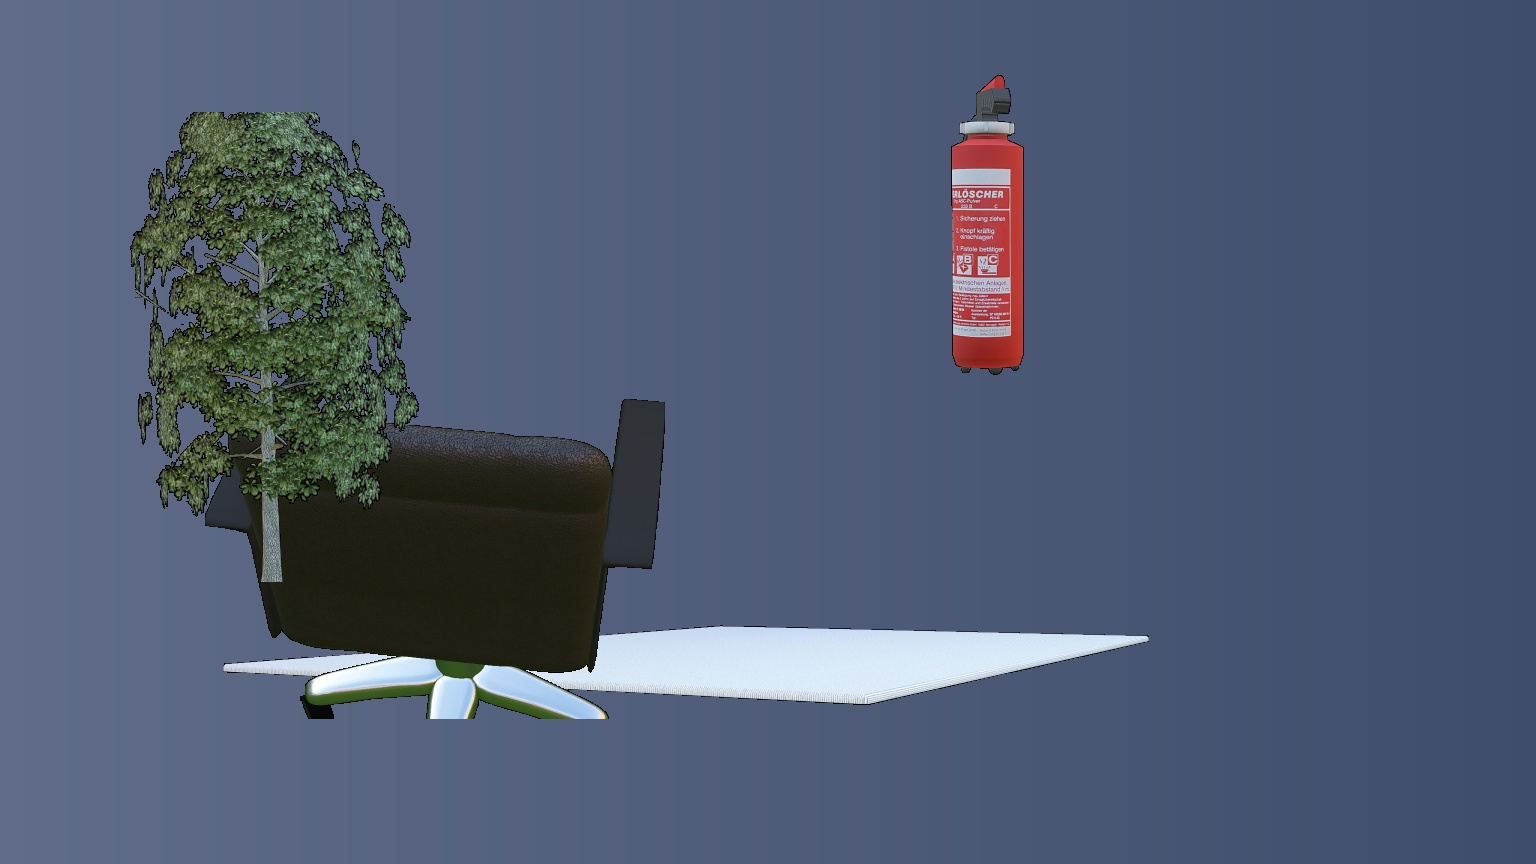arbol: (129, 112, 420, 582)
extintor: (951, 75, 1024, 375)
silla: (204, 371, 666, 719)
